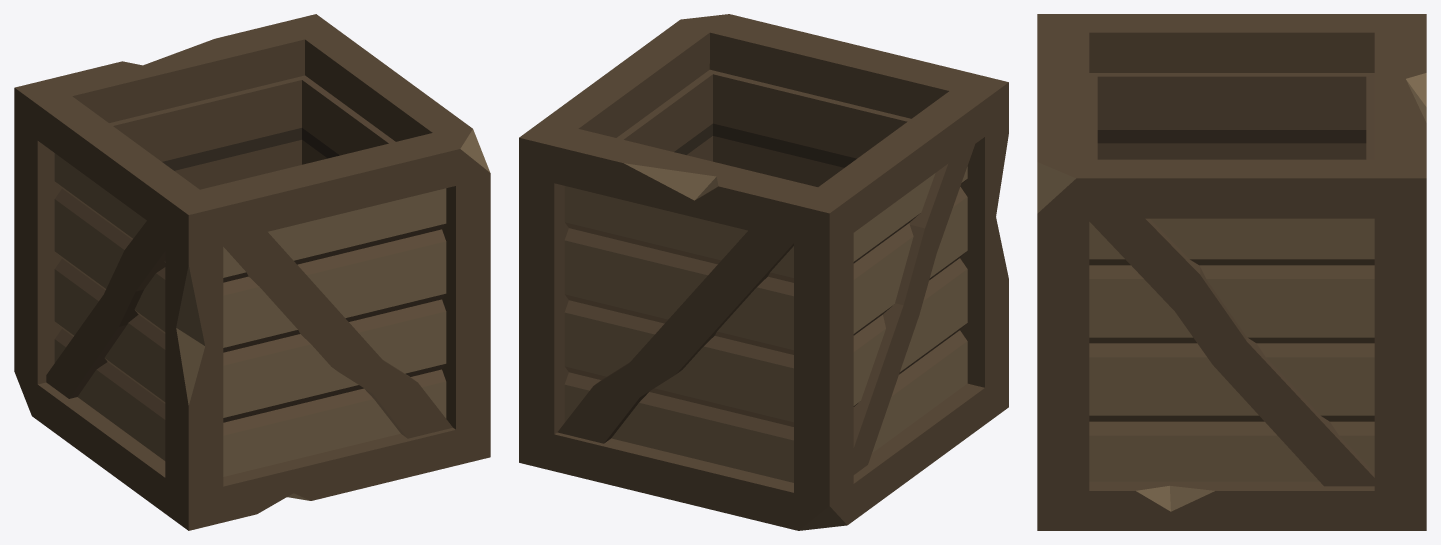
The model's file is SM_Prop_Crate_02.fbx.
3 renders of one model, left to right at view 1: azimuth 30°, elevation 25°; view 2: azimuth 150°, elevation 25°; view 3: azimuth 270°, elevation 25°, orthographic. The views are drawn at different scales.
Visible parts, largest first — view 1: SM_Prop_Crate_02; view 2: SM_Prop_Crate_02; view 3: SM_Prop_Crate_02.
Part boxes in pixels (box(x1,y1,x2,y2)): SM_Prop_Crate_02: box(14, 14, 490, 530); SM_Prop_Crate_02: box(519, 14, 1008, 530); SM_Prop_Crate_02: box(1037, 14, 1426, 530).
Bounding box in the file's own units: 0.00767 × 0.00767 × 0.00767.
1 material, 1 textured.
